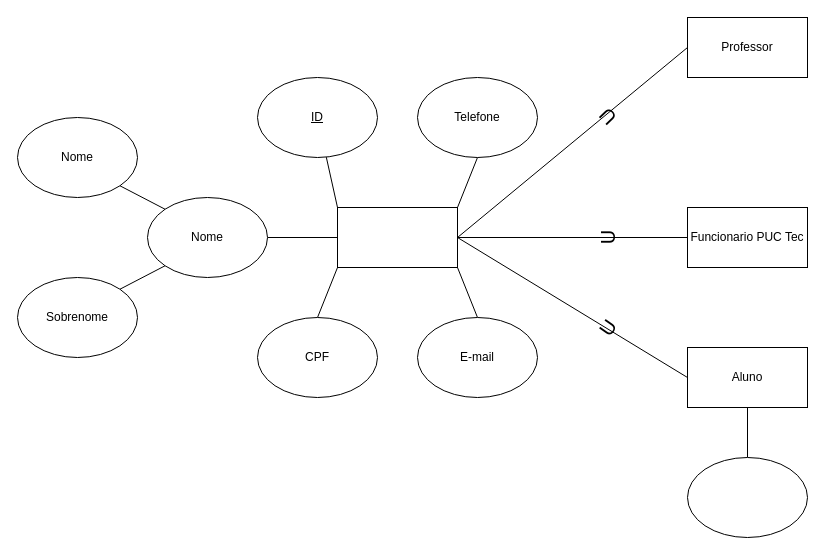
This 825x555 diagram has some shape labels left out. The centre of each missing label's shape, as x and y in pixels:
"Matrícula" goes at (747,497).
"Pessoa" goes at (397,237).
